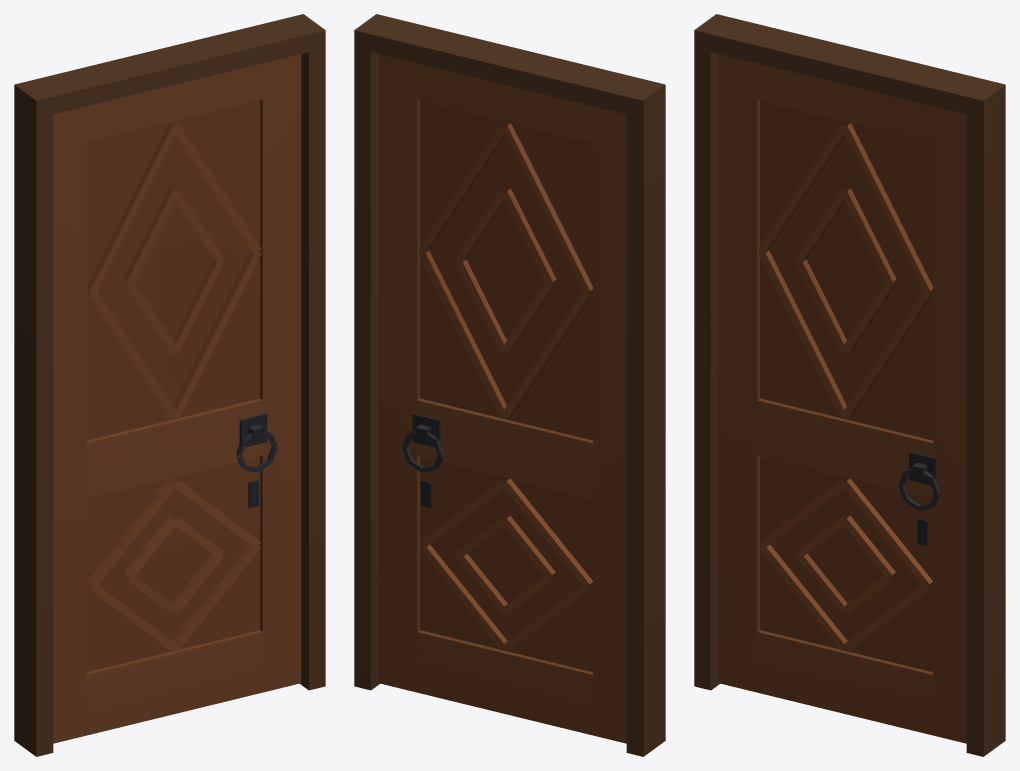
The model's file is door.oak_slim.diamond.glb.
The picture shows the model from 3 angles, left to right: view 1: azimuth 30°, elevation 25°; view 2: azimuth 150°, elevation 25°; view 3: azimuth 330°, elevation 25°; orthographic projection.
Parts seen in each view (by area): view 1: door_oak_slim_diamond; view 2: door_oak_slim_diamond; view 3: door_oak_slim_diamond.
Part boxes in pixels (<box>): door_oak_slim_diamond: <box>14,14,325,756</box>; door_oak_slim_diamond: <box>354,14,665,756</box>; door_oak_slim_diamond: <box>694,14,1005,756</box>.
Size of what is drawn, in the model's own units: 1.2 by 2.6 by 0.16.
